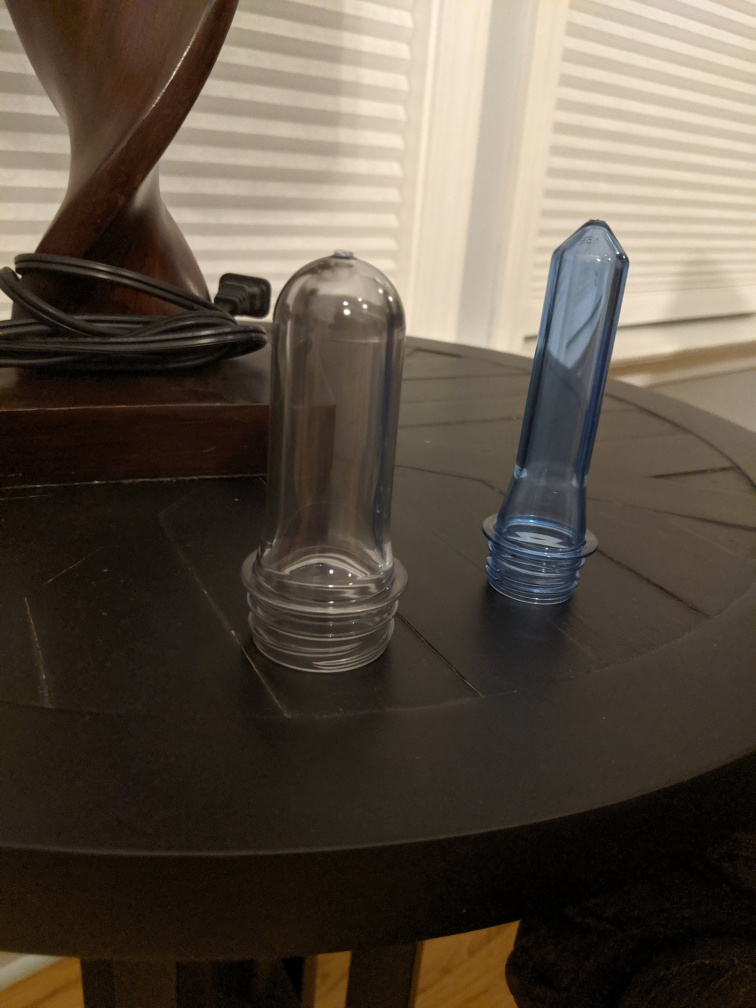preform: (232, 243, 419, 686), (479, 214, 635, 617)
